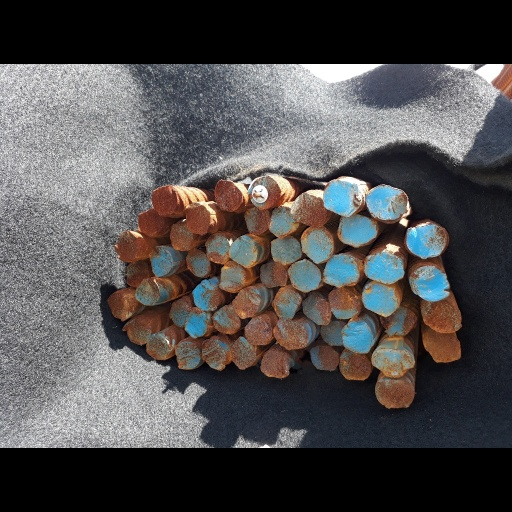dipstick: (365, 183, 408, 221), (420, 297, 462, 333), (322, 181, 362, 218), (361, 282, 401, 317), (406, 225, 447, 259), (336, 214, 377, 247), (423, 330, 461, 364), (371, 349, 415, 378), (364, 254, 405, 285), (413, 268, 450, 301), (322, 253, 359, 286), (375, 378, 413, 409), (300, 230, 333, 265), (291, 192, 324, 227), (248, 176, 280, 211), (287, 260, 321, 292), (273, 319, 306, 351), (378, 307, 414, 336), (214, 178, 243, 213), (342, 322, 373, 354), (328, 288, 360, 319), (269, 208, 299, 239), (227, 237, 257, 268), (338, 351, 370, 380), (191, 280, 221, 310), (271, 289, 300, 320), (302, 296, 331, 326), (211, 305, 241, 334), (270, 236, 301, 264), (308, 344, 338, 372), (205, 232, 231, 264), (182, 307, 208, 339), (260, 350, 289, 378), (231, 288, 258, 318), (230, 336, 254, 369), (150, 187, 178, 215), (244, 315, 270, 345), (202, 340, 227, 371), (242, 209, 270, 236), (137, 208, 164, 236), (185, 205, 211, 234), (185, 248, 210, 278), (116, 231, 139, 263), (107, 292, 133, 320), (148, 247, 172, 277), (260, 263, 286, 289), (219, 266, 245, 292), (175, 341, 199, 369), (169, 221, 192, 250), (145, 334, 170, 360), (134, 279, 158, 305), (125, 320, 151, 344), (321, 319, 344, 346), (170, 299, 190, 327), (126, 261, 148, 286)
